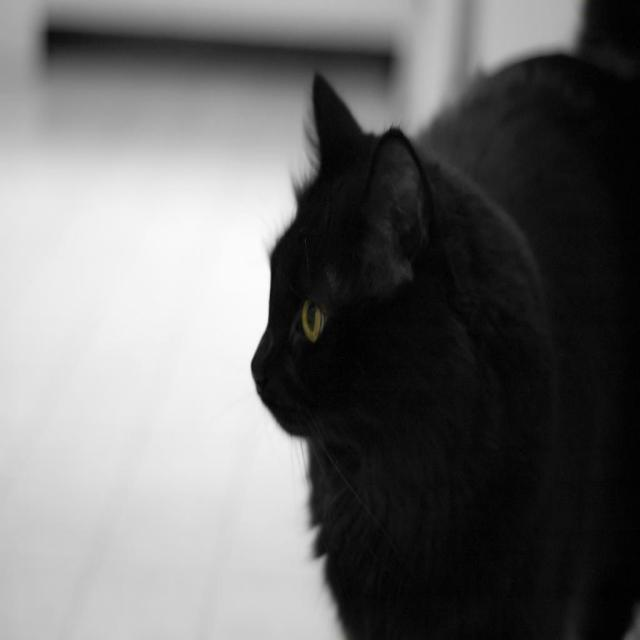Cat: (247, 48, 639, 638)
